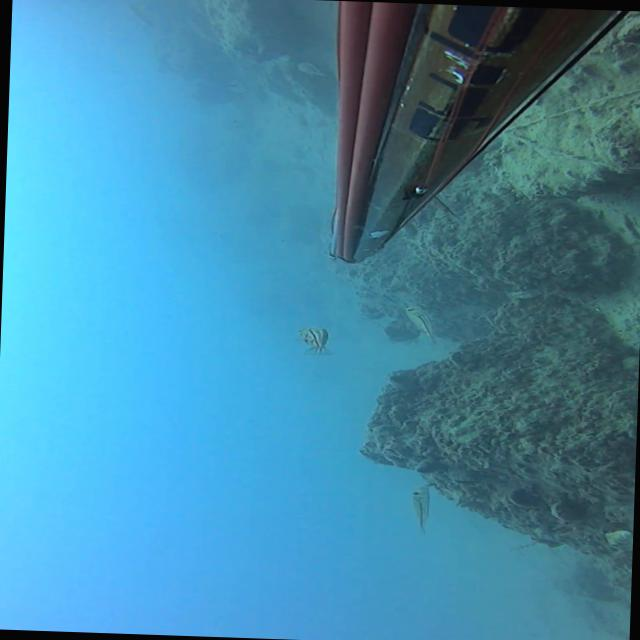Balon Baligi: (402, 304, 433, 342), (296, 326, 332, 355), (409, 485, 429, 536), (602, 529, 633, 558), (296, 62, 324, 76)
